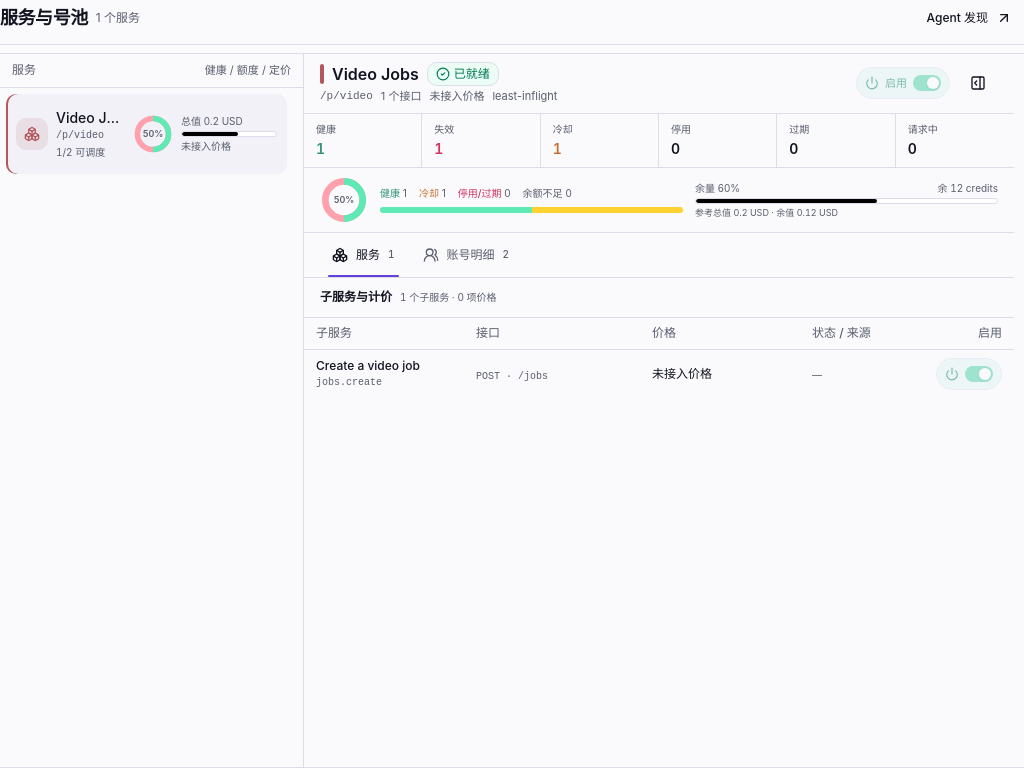
Test: ProtocolsPage master-detail pool console › filters the current pool and keeps empty results contextual
The width and height of the screenshot is (1024, 768).
Click the tab "账号明细 2" at (466, 254), box x1=410 y1=232 x2=521 y2=276
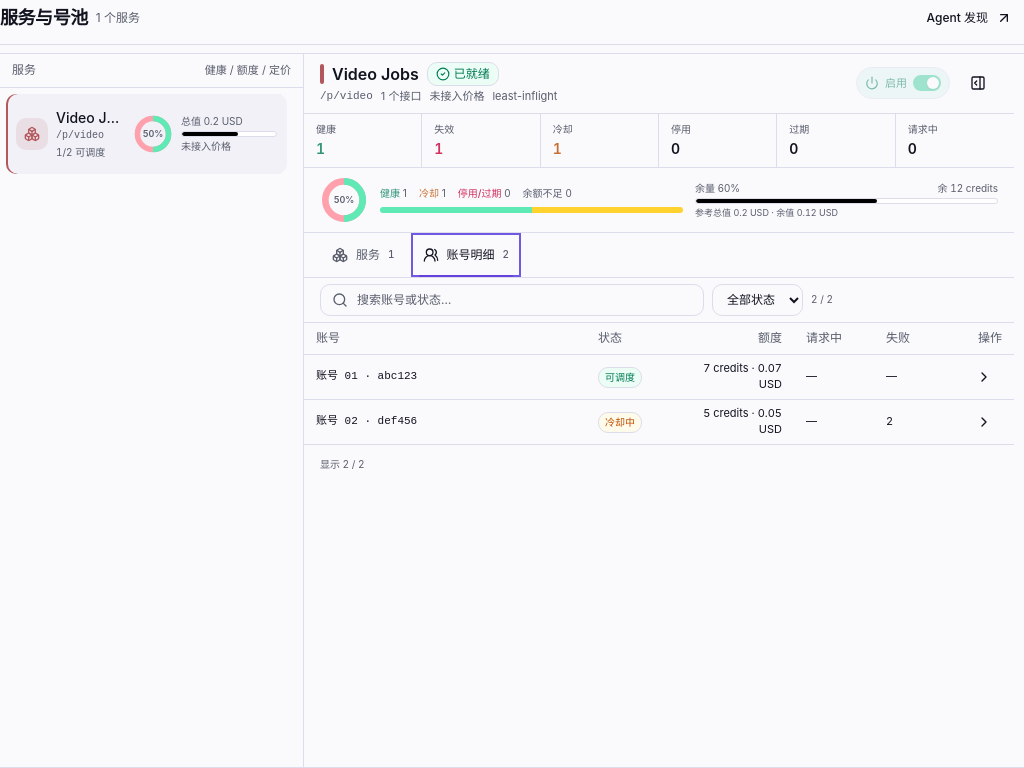
Select "冷却中" in the dropdown named "筛选账号状态" at (758, 300), box x1=712 y1=284 x2=803 y2=316
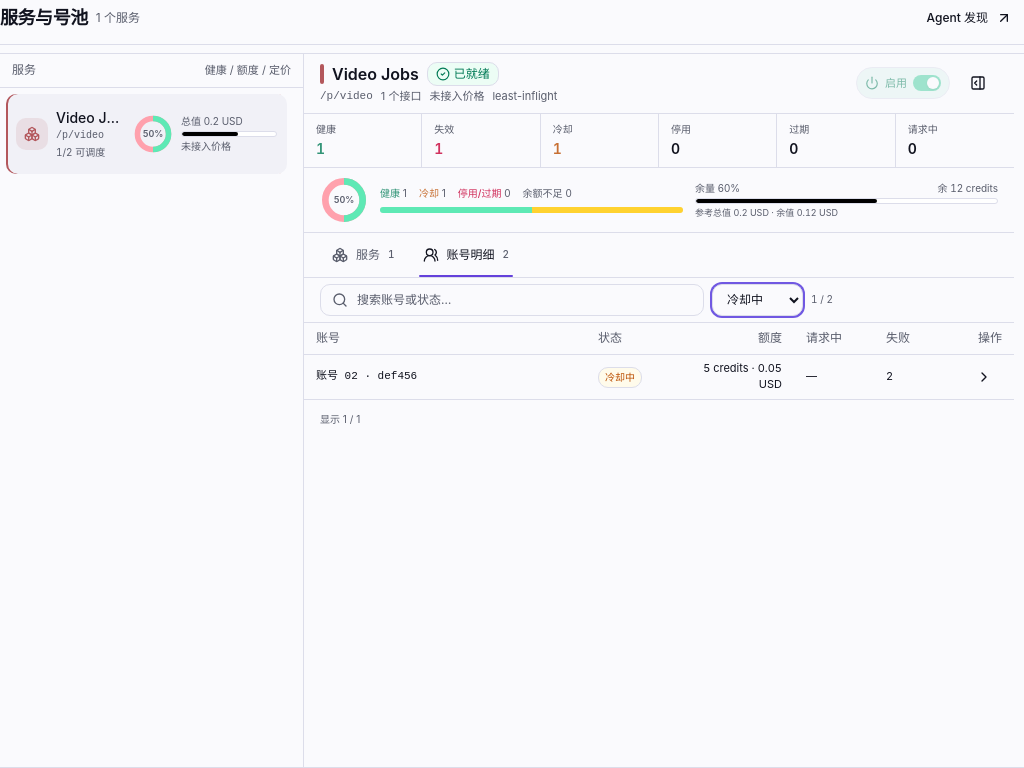
Check: the button "账号 02 · def456" is shown, box x1=316 y1=359 x2=574 y2=395
Check: the button "账号 01 · abc123" is gone
Type "不存在" into the search field named "搜索当前服务账号" at (512, 300), box x1=320 y1=284 x2=704 y2=316
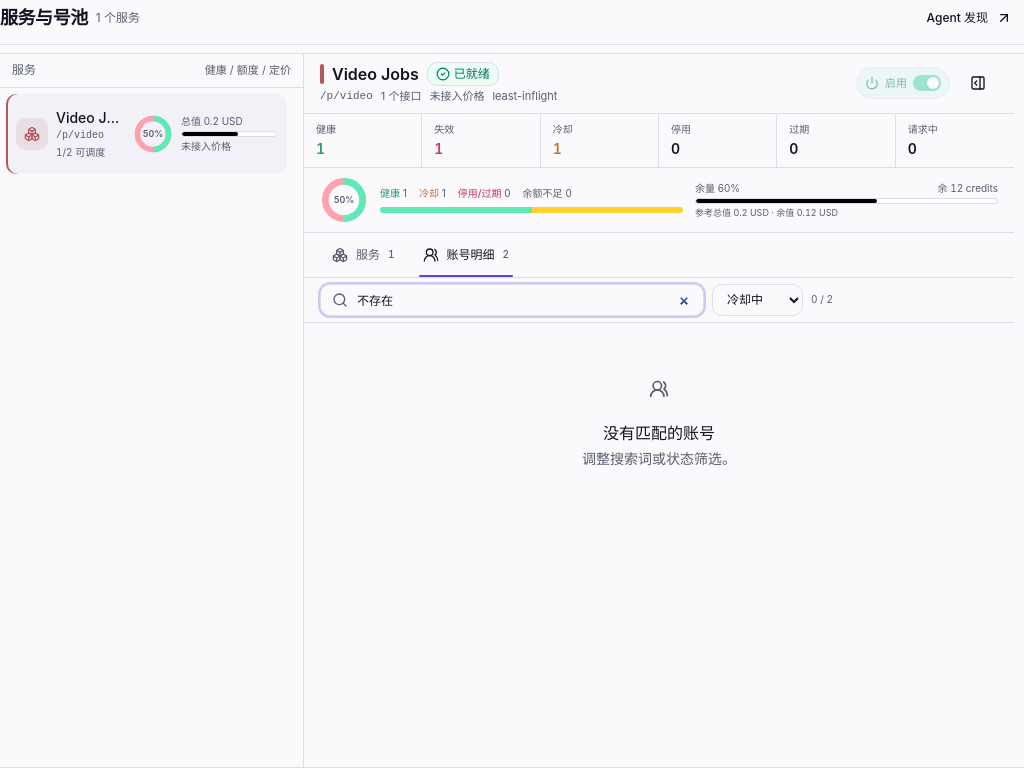
Check: the heading "没有匹配的账号" is shown, box x1=603 y1=420 x2=715 y2=444
